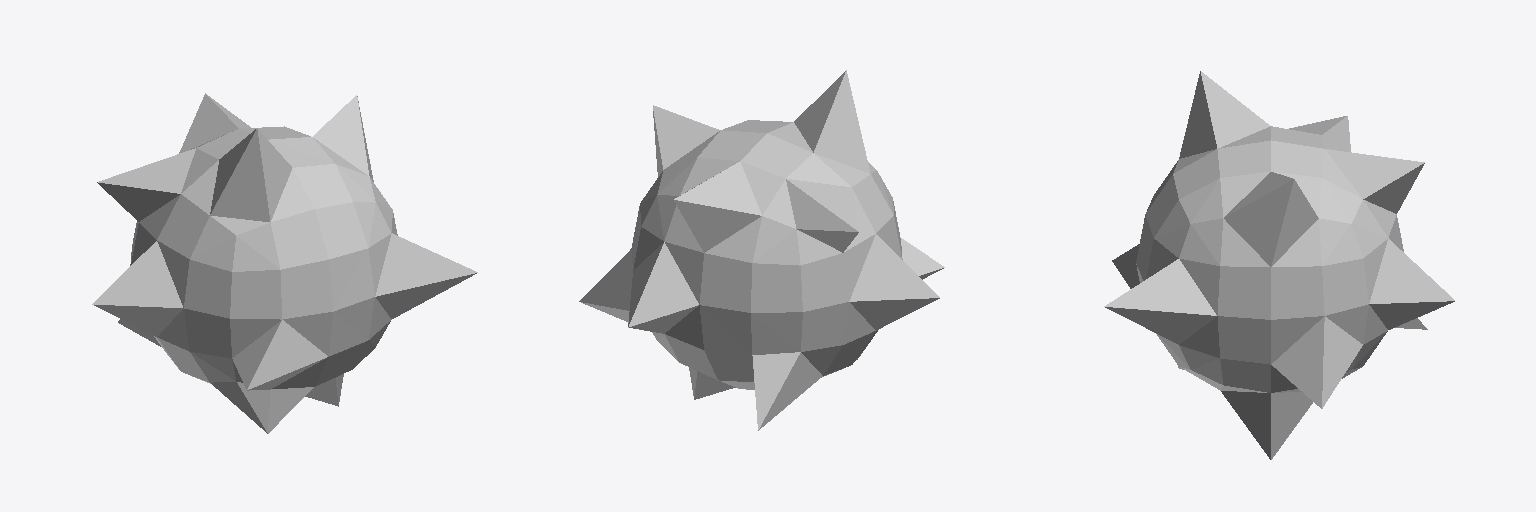
The model's file is Enemy.obj.
The picture shows the model from 3 angles: view 1: azimuth 30°, elevation 25°; view 2: azimuth 150°, elevation 25°; view 3: azimuth 270°, elevation 25°; orthographic projection.
Parts seen in each view (by area): view 1: Cube; view 2: Cube; view 3: Cube.
Part boxes in pixels (left/top/right/bottom): Cube: left=92, top=93, right=477, bottom=433; Cube: left=579, top=70, right=944, bottom=430; Cube: left=1104, top=71, right=1454, bottom=459.
Size of the model in its own units: 1 by 0.9456 by 0.9064.